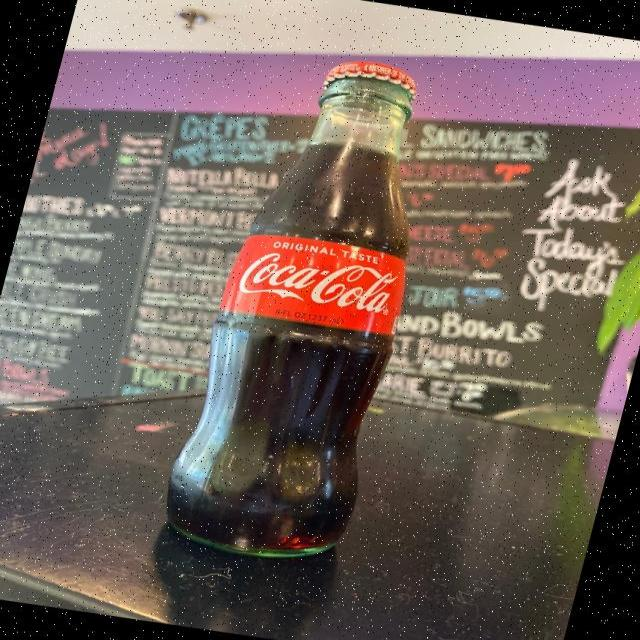coca-cola: (149, 40, 474, 574)
